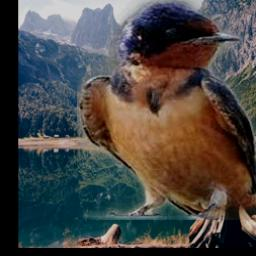Swallow: (78, 0, 256, 221)
